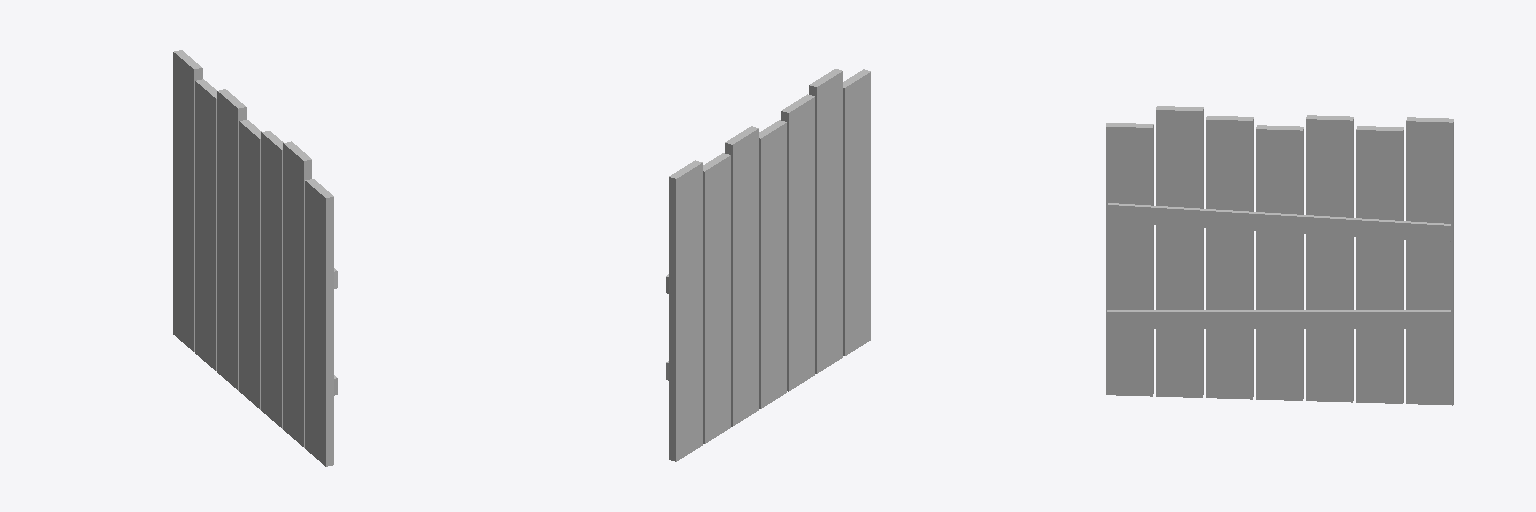
File: fence3.obj
3 views of the same model, side by side, from view 1: azimuth 30°, elevation 25°; view 2: azimuth 150°, elevation 25°; view 3: azimuth 270°, elevation 25° (orthographic).
Visible parts, largest first — view 1: pasted__pasted__fanceWooden_null_ pasted__group3 group4; view 2: pasted__pasted__fanceWooden_null_ pasted__group3 group4; view 3: pasted__pasted__fanceWooden_null_ pasted__group3 group4.
Part boxes in pixels (bbox=[...]): pasted__pasted__fanceWooden_null_ pasted__group3 group4: bbox=[173, 50, 337, 466]; pasted__pasted__fanceWooden_null_ pasted__group3 group4: bbox=[666, 69, 870, 461]; pasted__pasted__fanceWooden_null_ pasted__group3 group4: bbox=[1106, 106, 1453, 405].
Size of the model in its own units: 0.705 by 5.77 by 6.35.